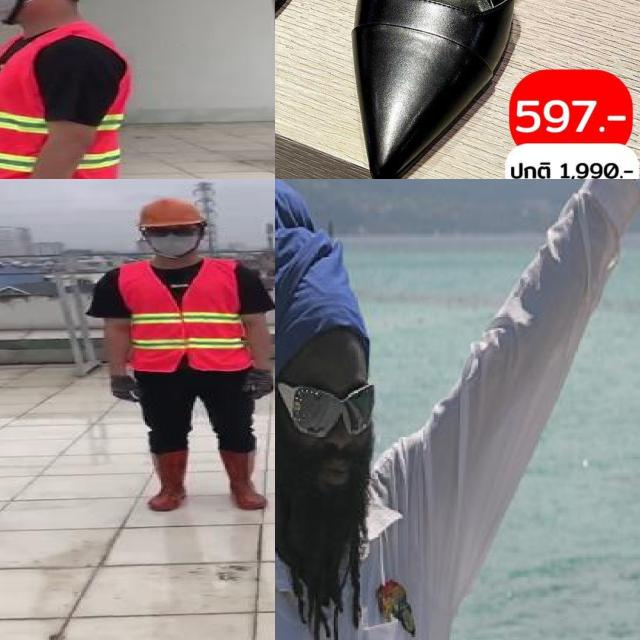Sandals: (305, 0, 584, 179)
boots: (218, 449, 271, 510), (148, 450, 188, 513)
face_mask: (144, 223, 199, 256), (0, 0, 31, 20)
face_nomask: (286, 380, 380, 506)
glasses: (275, 383, 377, 437), (140, 224, 204, 241)
hand_glove: (244, 364, 275, 401), (106, 376, 140, 402)
head_helmet: (132, 196, 210, 228)
head_nohelmet: (275, 275, 382, 378)
person: (275, 179, 476, 640), (85, 195, 275, 517), (0, 0, 152, 179)
vest: (0, 28, 132, 179), (115, 254, 250, 371)
